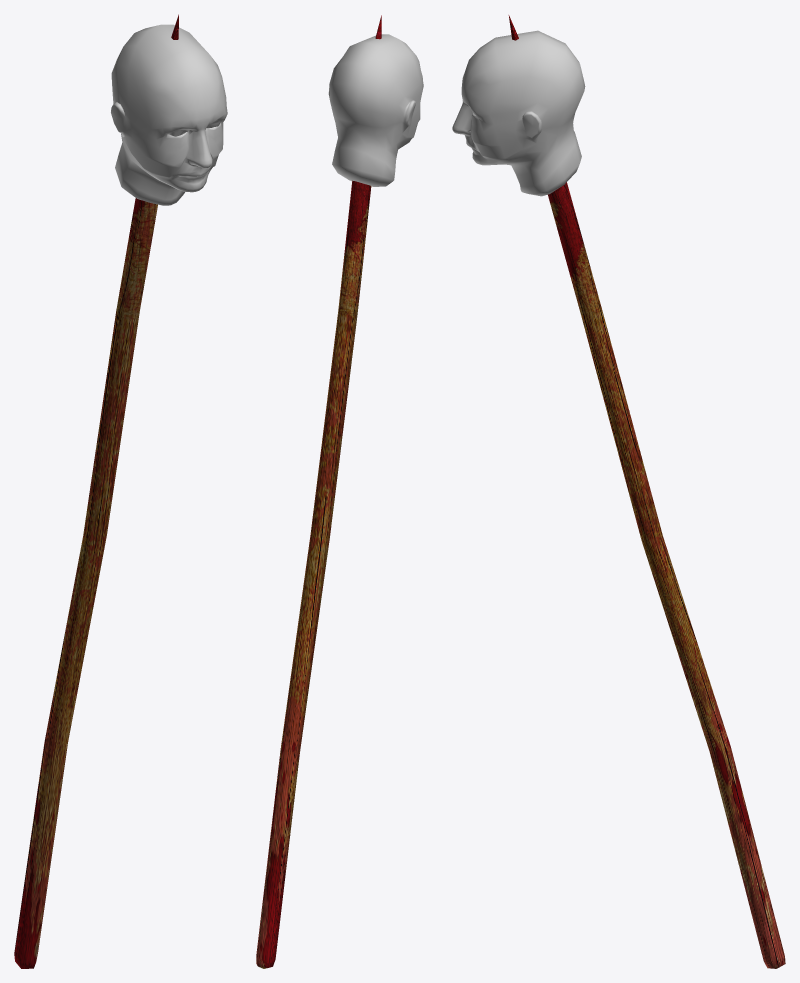
Rendered from severed_exp_08.fbx.
3 views of the same model, side by side, from view 1: azimuth 30°, elevation 25°; view 2: azimuth 150°, elevation 25°; view 3: azimuth 270°, elevation 25° (orthographic). The views are drawn at different scales.
Parts seen in each view (by area): view 1: severed_exp_08; view 2: severed_exp_08; view 3: severed_exp_08.
Part boxes in pixels (bbox=[...]): severed_exp_08: bbox=[14, 14, 227, 968]; severed_exp_08: bbox=[256, 15, 423, 968]; severed_exp_08: bbox=[452, 15, 785, 968].
Size of the model in its own units: 0.2194 by 2.18 by 0.6873.
